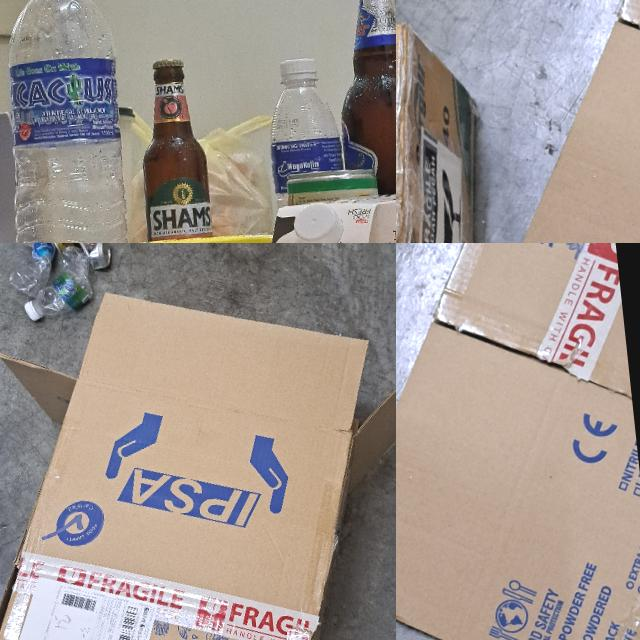caixinha: (264, 190, 396, 243)
garrafa de vidro: (133, 57, 220, 243), (325, 0, 396, 211)
garrafa plástica: (0, 0, 140, 243), (265, 80, 351, 228), (30, 244, 96, 316), (3, 243, 59, 301)
lata: (49, 243, 112, 274)
papelão: (0, 260, 396, 640), (396, 243, 640, 640), (451, 0, 640, 243), (396, 7, 505, 243)
tampa plástica: (290, 203, 348, 243), (282, 52, 318, 80), (23, 300, 40, 321)
